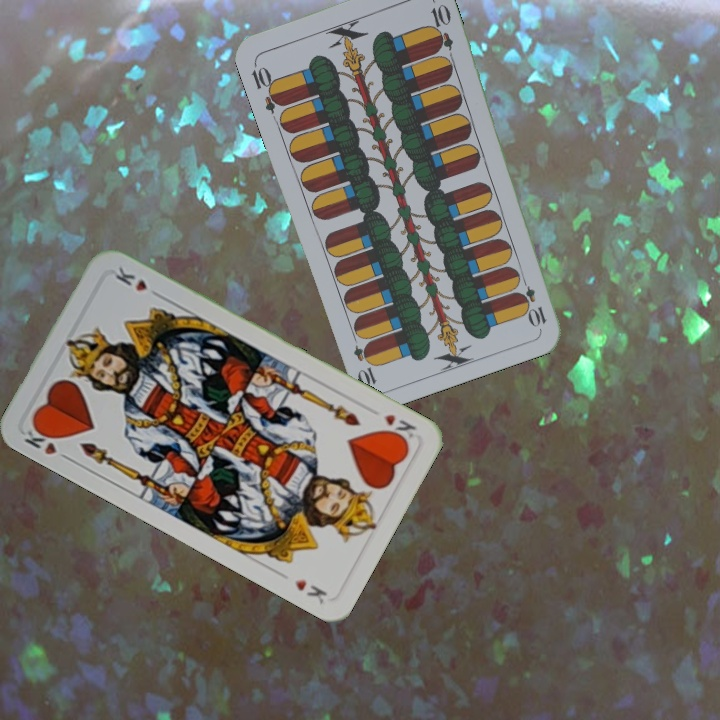E10: (247, 58, 286, 115), (515, 272, 549, 330)
HK: (20, 420, 74, 464), (379, 410, 419, 446)
